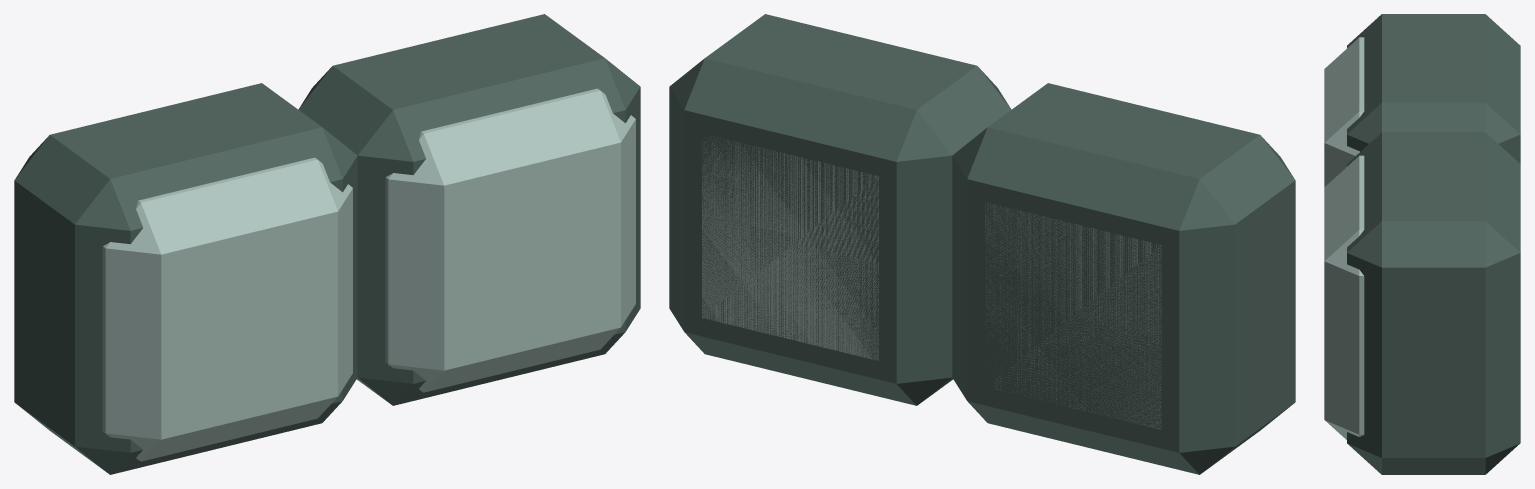
The model's file is Terrain_Block2x1.gltf.
3 views of the same model, side by side, from view 1: azimuth 30°, elevation 25°; view 2: azimuth 150°, elevation 25°; view 3: azimuth 270°, elevation 25° (orthographic). The views are drawn at different scales.
Visible parts, largest first — view 1: Terrain_Block2x1_baked; view 2: Terrain_Block2x1_baked; view 3: Terrain_Block2x1_baked.
Part boxes in pixels (<box>): Terrain_Block2x1_baked: <box>14,14,640,474</box>; Terrain_Block2x1_baked: <box>669,14,1295,474</box>; Terrain_Block2x1_baked: <box>1324,14,1520,474</box>.
Size of the model in its own units: 2 by 1 by 0.7.
